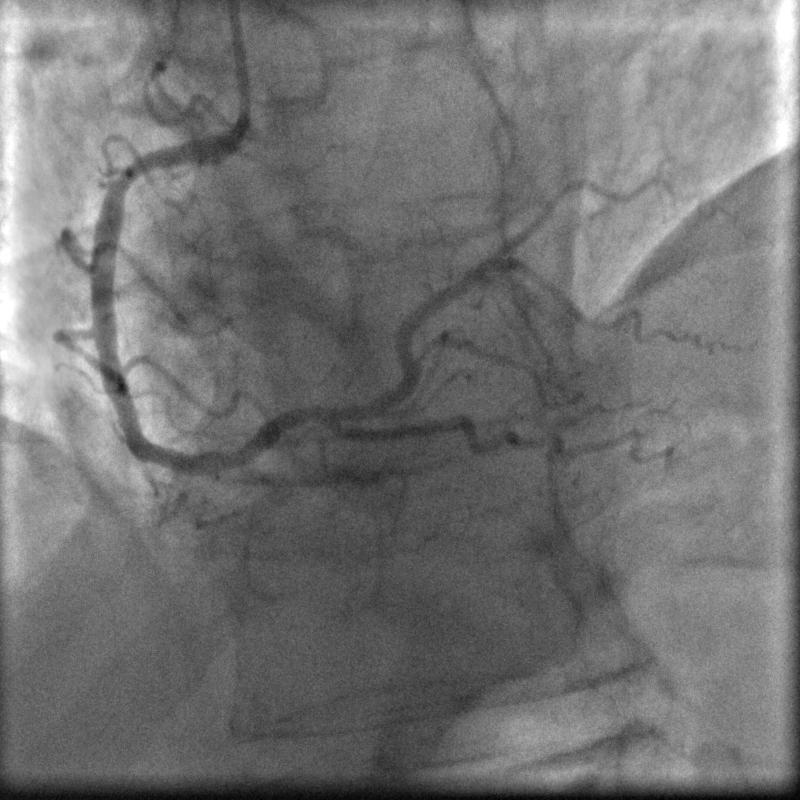Stenosis: (106, 154, 156, 188)
